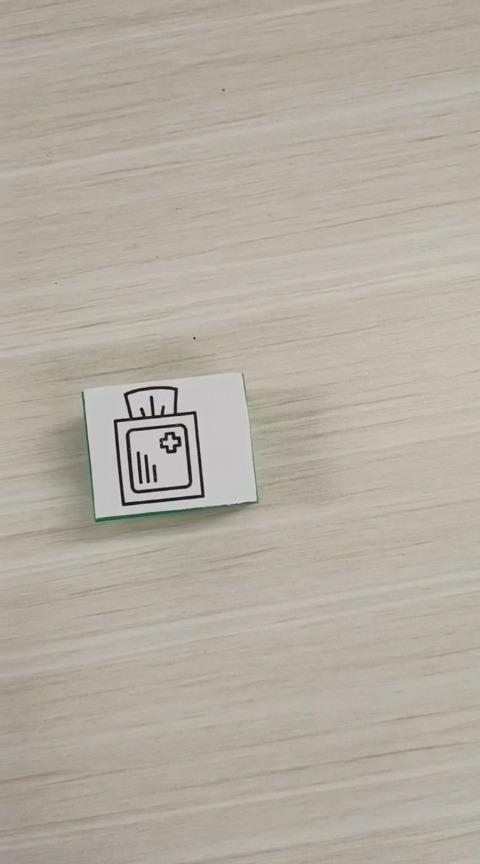Gauze: (80, 370, 258, 523)
